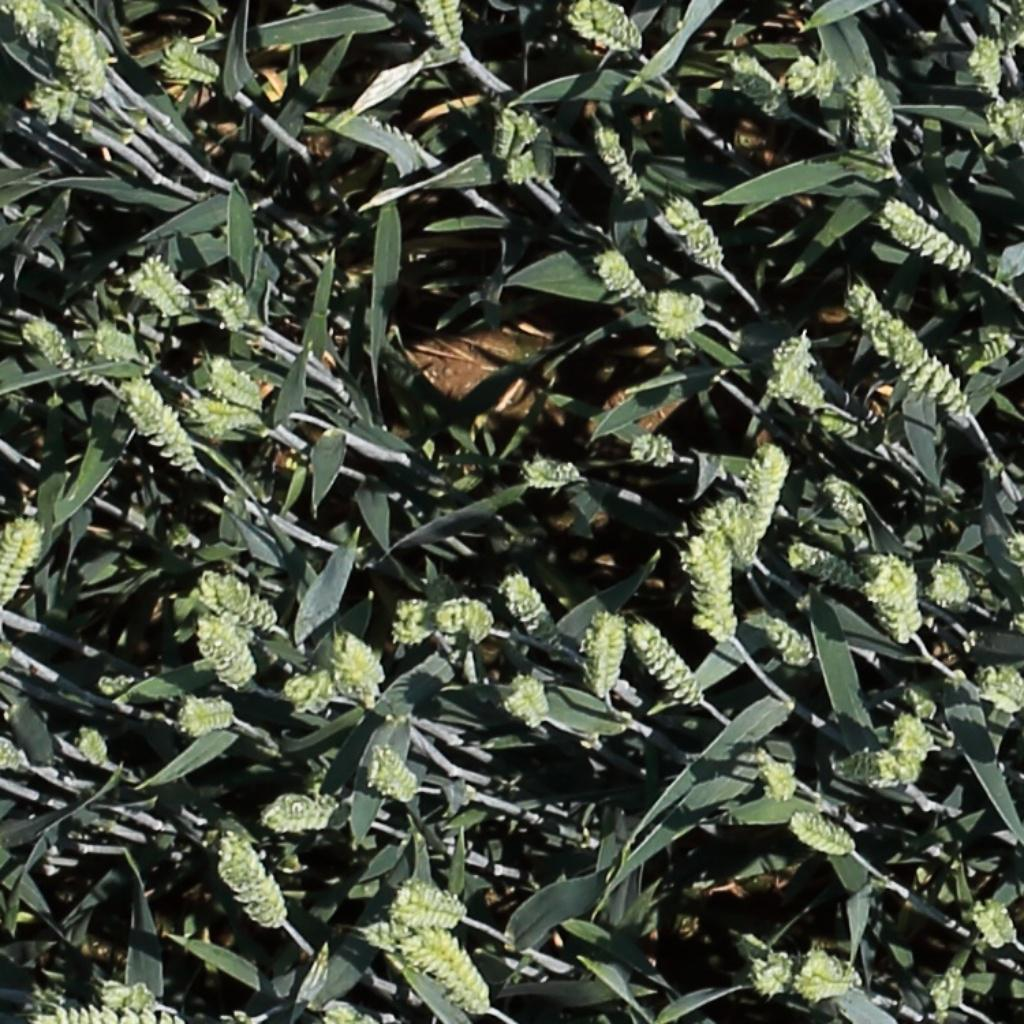0-0: (858, 292, 976, 423), (357, 918, 506, 1019), (680, 505, 743, 643), (117, 376, 196, 472), (218, 830, 288, 929), (630, 621, 705, 711), (847, 282, 928, 364), (886, 199, 974, 271), (24, 318, 103, 389), (387, 879, 483, 937), (502, 567, 566, 653), (664, 191, 729, 271), (197, 611, 259, 694), (790, 543, 877, 601), (865, 551, 920, 641), (566, 0, 651, 58), (129, 252, 197, 324), (593, 118, 649, 203), (748, 438, 790, 547), (259, 782, 347, 834), (60, 15, 110, 105), (21, 84, 103, 138), (177, 394, 268, 442), (727, 51, 793, 117), (0, 0, 74, 56), (777, 51, 845, 110), (888, 708, 940, 784), (207, 574, 277, 630), (709, 499, 761, 573), (329, 633, 378, 711), (368, 741, 421, 809), (820, 471, 875, 535), (0, 517, 38, 607), (770, 354, 830, 410), (750, 744, 800, 811), (418, 0, 469, 65), (795, 954, 855, 1009), (338, 629, 389, 693), (854, 70, 901, 139), (759, 613, 817, 667), (391, 591, 442, 650), (791, 815, 860, 858), (772, 326, 815, 395), (595, 610, 626, 704), (972, 664, 1024, 720), (173, 695, 240, 738), (596, 247, 649, 300), (206, 277, 251, 337), (208, 357, 264, 404), (739, 953, 792, 1002), (508, 142, 563, 189), (972, 27, 1006, 102), (968, 897, 1015, 951), (522, 455, 587, 493), (512, 670, 554, 723), (962, 328, 1003, 382), (73, 720, 113, 775), (985, 92, 1022, 150), (94, 977, 160, 1009), (849, 750, 903, 789), (929, 561, 973, 608), (316, 998, 392, 1024), (491, 102, 520, 163), (502, 690, 544, 730), (163, 53, 222, 80), (627, 434, 673, 467), (942, 961, 969, 1015), (929, 970, 957, 1022), (476, 333, 529, 359), (281, 678, 338, 701), (0, 731, 28, 772), (820, 412, 864, 438), (0, 90, 23, 135)
